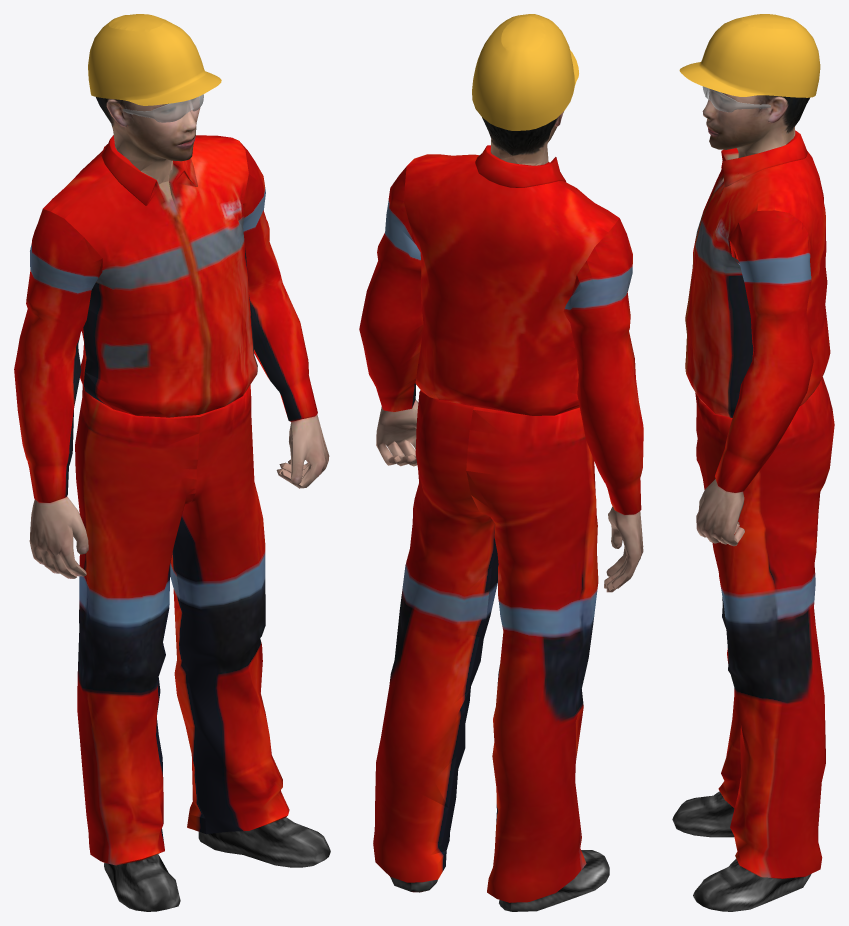
Rendered from worker.gltf.
The picture shows the model from 3 angles, left to right: view 1: azimuth 30°, elevation 25°; view 2: azimuth 150°, elevation 25°; view 3: azimuth 270°, elevation 25°; orthographic projection. The views are drawn at different scales.
Size of the model in its own units: 61.15 by 178 by 31.94.
3 materials, 1 textured.
